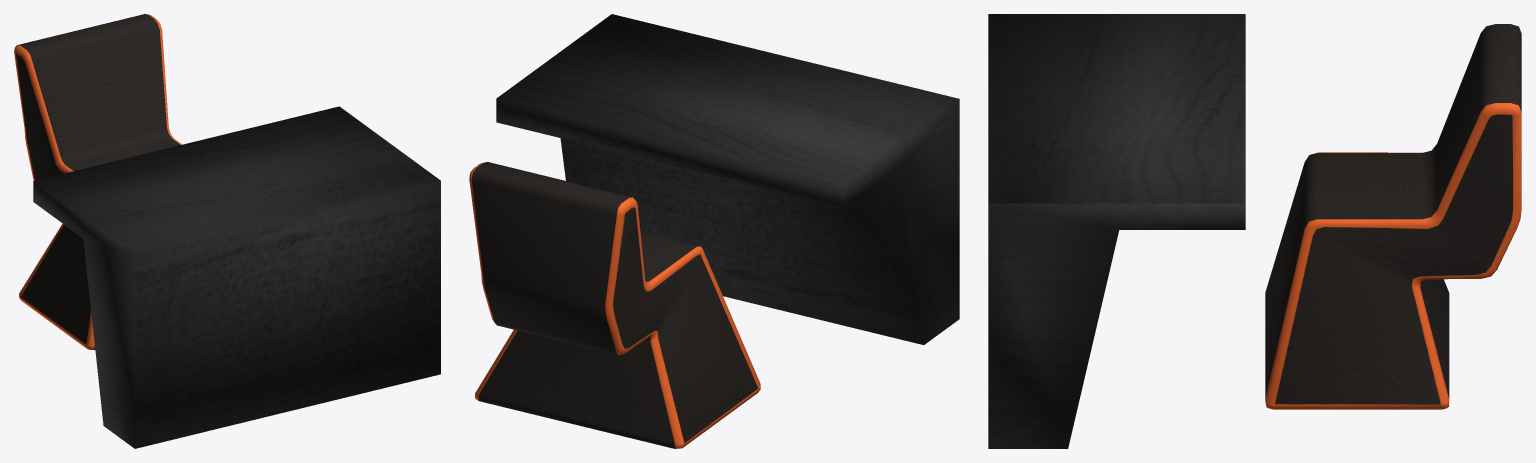
The model's file is 髮廊桌椅.FBX.
3 renders of one model, left to right at view 1: azimuth 30°, elevation 25°; view 2: azimuth 150°, elevation 25°; view 3: azimuth 270°, elevation 25°, orthographic. The views are drawn at different scales.
Parts seen in each view (by area): view 1: Object001; view 2: Object001; view 3: Object001.
Part boxes in pixels (left/top/right/bottom): Object001: left=14, top=14, right=440, bottom=448; Object001: left=469, top=14, right=959, bottom=448; Object001: left=988, top=14, right=1521, bottom=448.
Bounding box in the file's own units: 150 × 108 × 179.
Materials: 1 (1 with a texture image).
